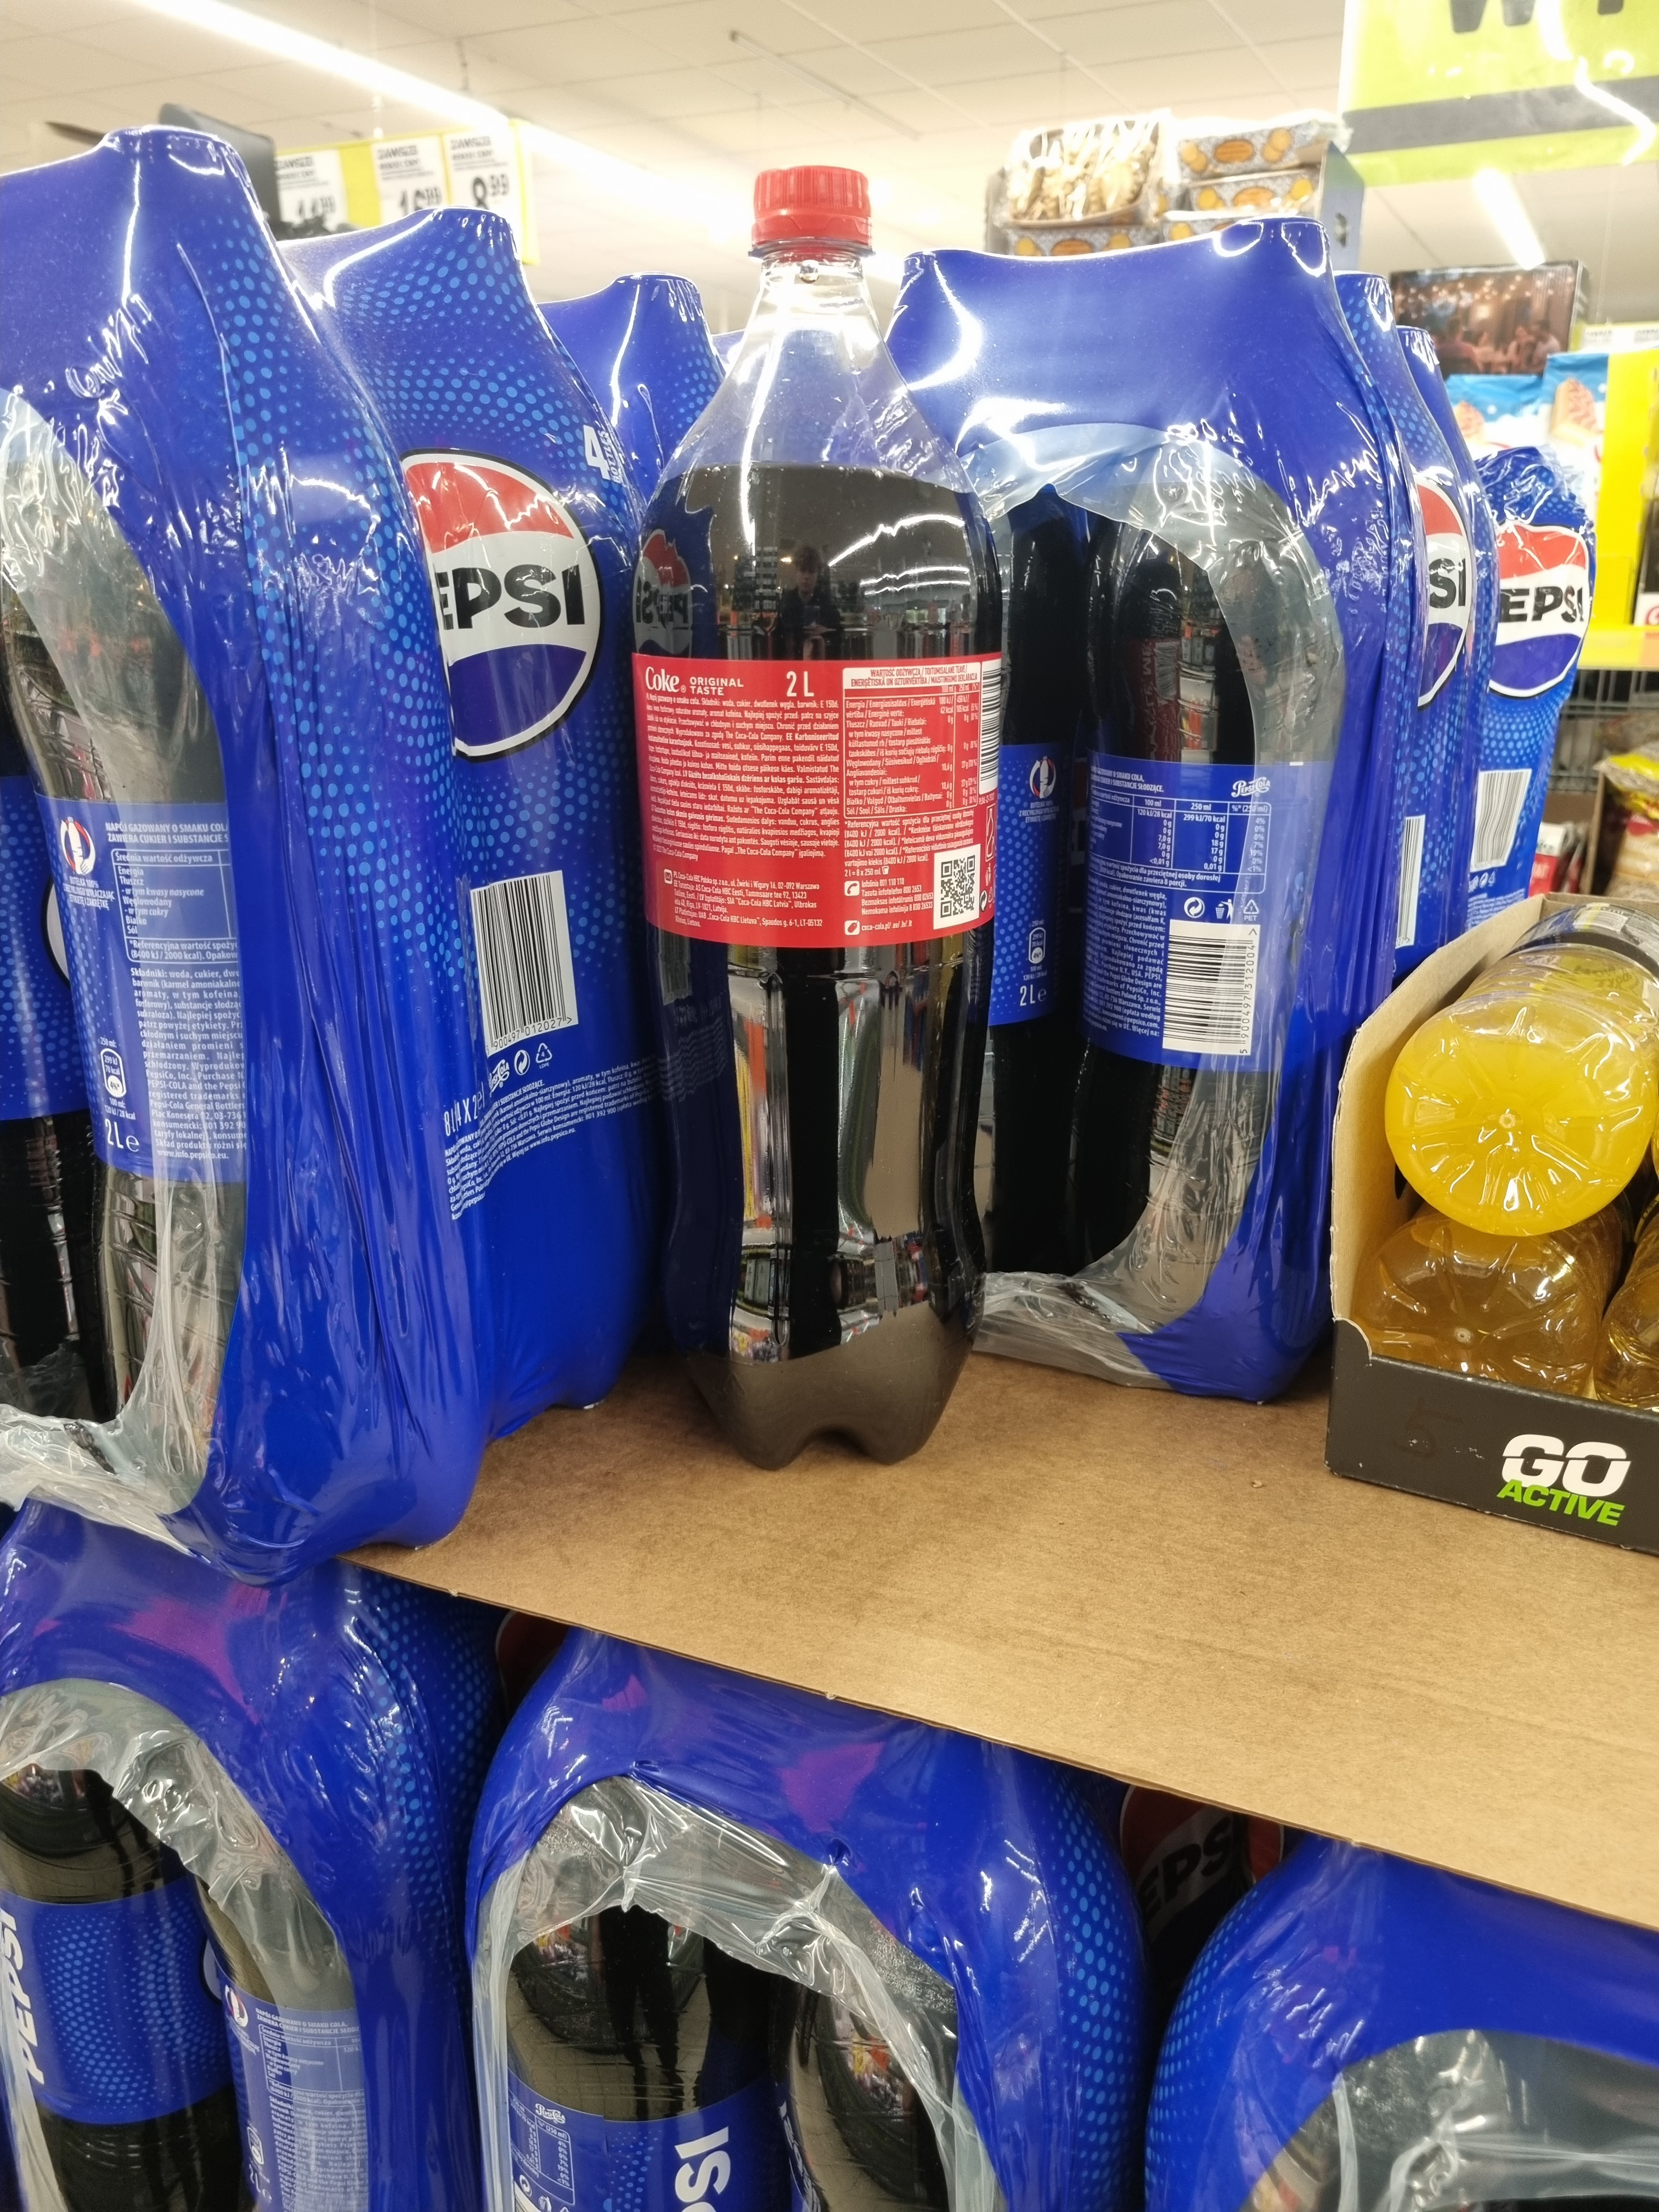Coca Cola: (622, 167, 1004, 1477)
